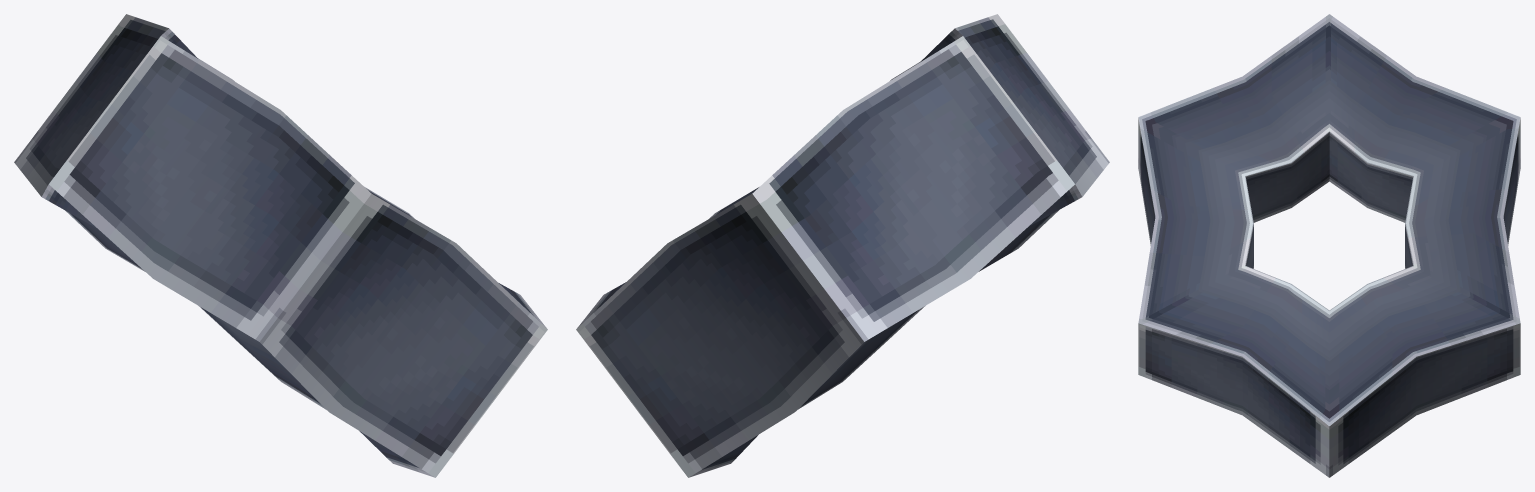
File: bolt-20.glb
The picture shows the model from 3 angles, left to right: view 1: azimuth 30°, elevation 25°; view 2: azimuth 150°, elevation 25°; view 3: azimuth 270°, elevation 25°; orthographic projection. The views are drawn at different scales.
Parts seen in each view (by area): view 1: Bolt-20; view 2: Bolt-20; view 3: Bolt-20.
Part boxes in pixels (left/top/right/bottom): Bolt-20: left=14, top=14, right=547, bottom=477; Bolt-20: left=576, top=14, right=1109, bottom=477; Bolt-20: left=1138, top=14, right=1520, bottom=477.
Bounding box in the file's own units: 0.6984 × 0.6879 × 0.6393.
Materials: 1 (1 with a texture image).
